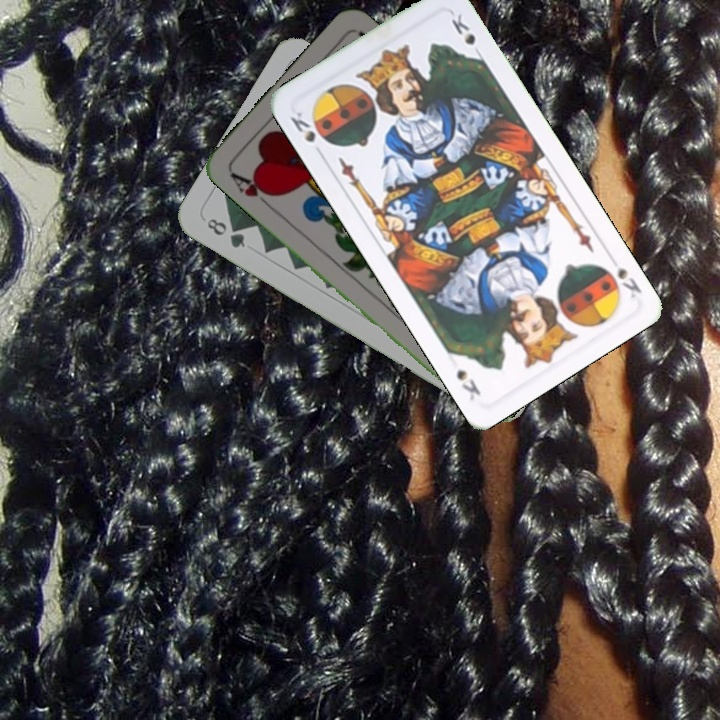G8: (202, 214, 248, 251)
HA: (225, 167, 278, 211)
SK: (286, 107, 326, 160), (598, 261, 644, 301)
